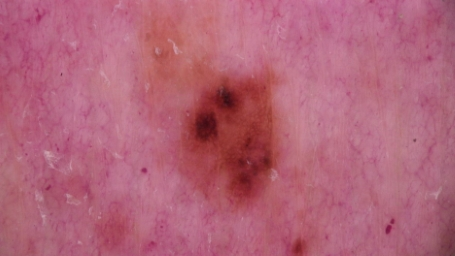nevus: (194, 79, 273, 204)
